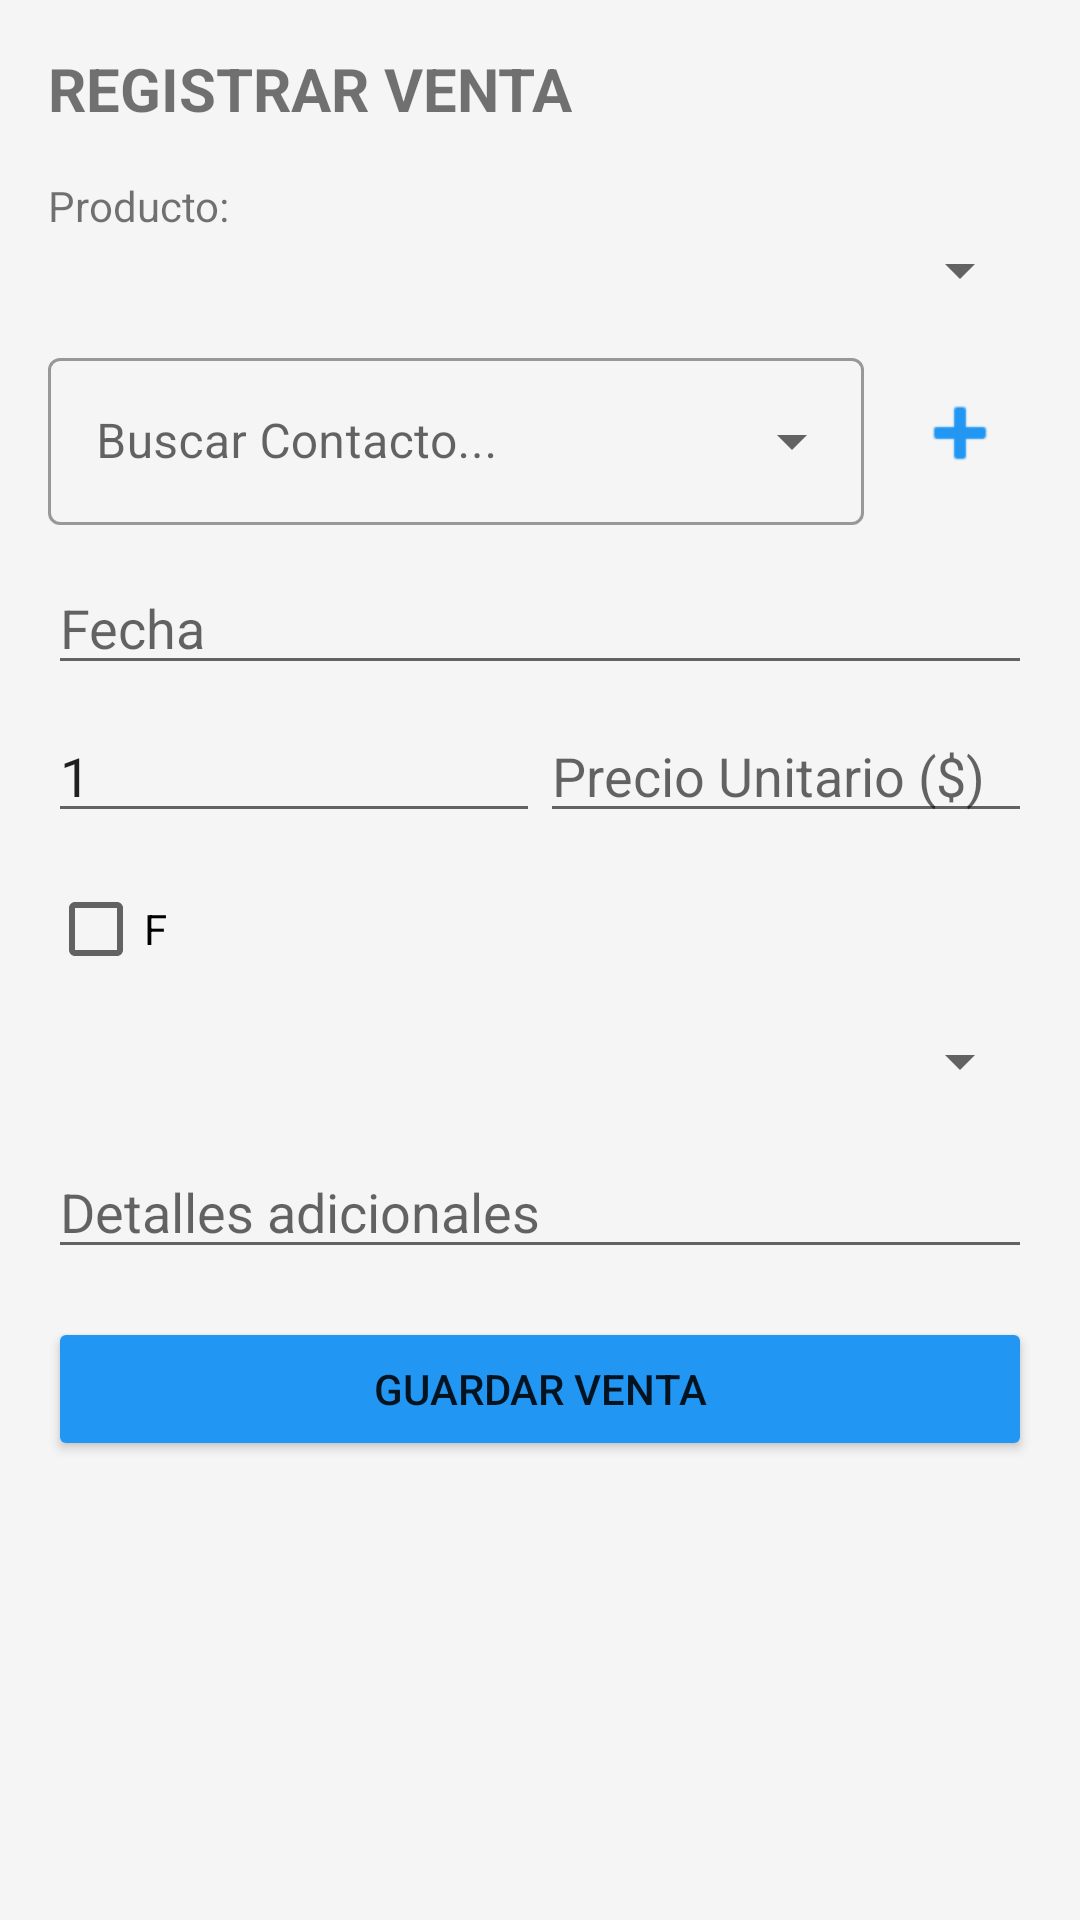

Icon click points for this 1080x1920 phone screenshot, format (x,y):
Nuevo Contacto: (960,433)
